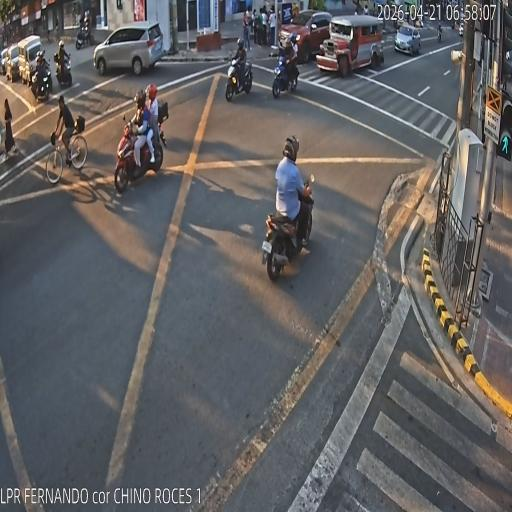Car: (93, 20, 166, 73), (281, 9, 330, 65), (17, 36, 46, 85), (394, 25, 420, 56), (4, 44, 21, 82)
Motor: (262, 173, 314, 281), (114, 103, 168, 192), (272, 46, 298, 98), (225, 50, 251, 102), (34, 54, 51, 100), (54, 50, 72, 87), (75, 24, 95, 50), (437, 24, 442, 42)
